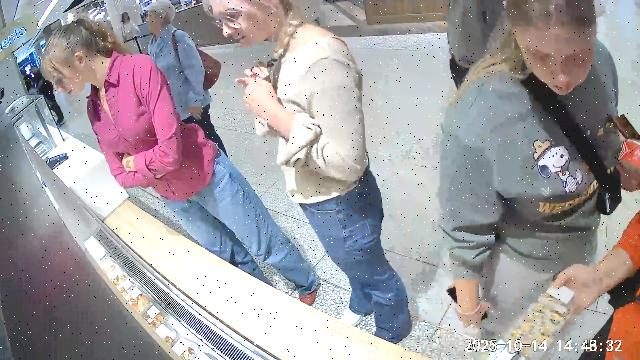sushi-box: (497, 287, 573, 360)
